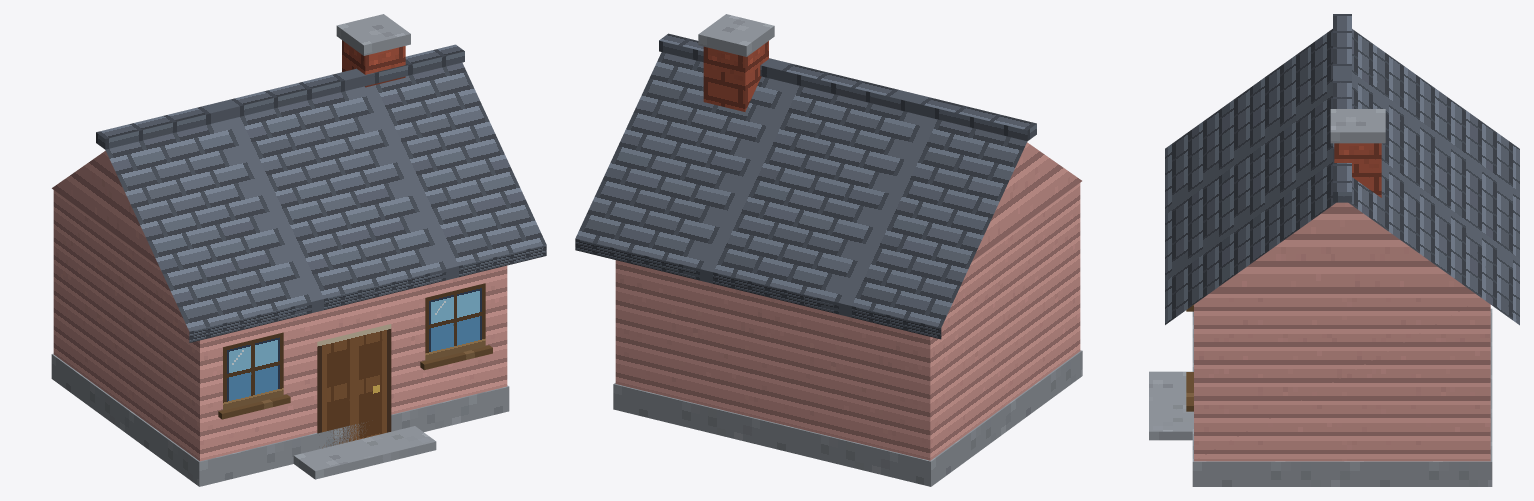
The model's file is house_4.glb.
3 renders of one model, left to right at view 1: azimuth 30°, elevation 25°; view 2: azimuth 150°, elevation 25°; view 3: azimuth 270°, elevation 25°, orthographic. The views are drawn at different scales.
Visible parts, largest first — view 1: house_4; view 2: house_4; view 3: house_4.
Part boxes in pixels (box(x1,y1,x2,y2)): house_4: box(51, 14, 546, 486); house_4: box(575, 14, 1082, 486); house_4: box(1149, 14, 1519, 486).
Bounding box in the file's own units: 5.34 × 4.75 × 4.7.
7 materials, 7 textured.
